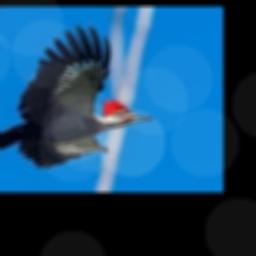Woodpecker: (0, 23, 153, 167)
